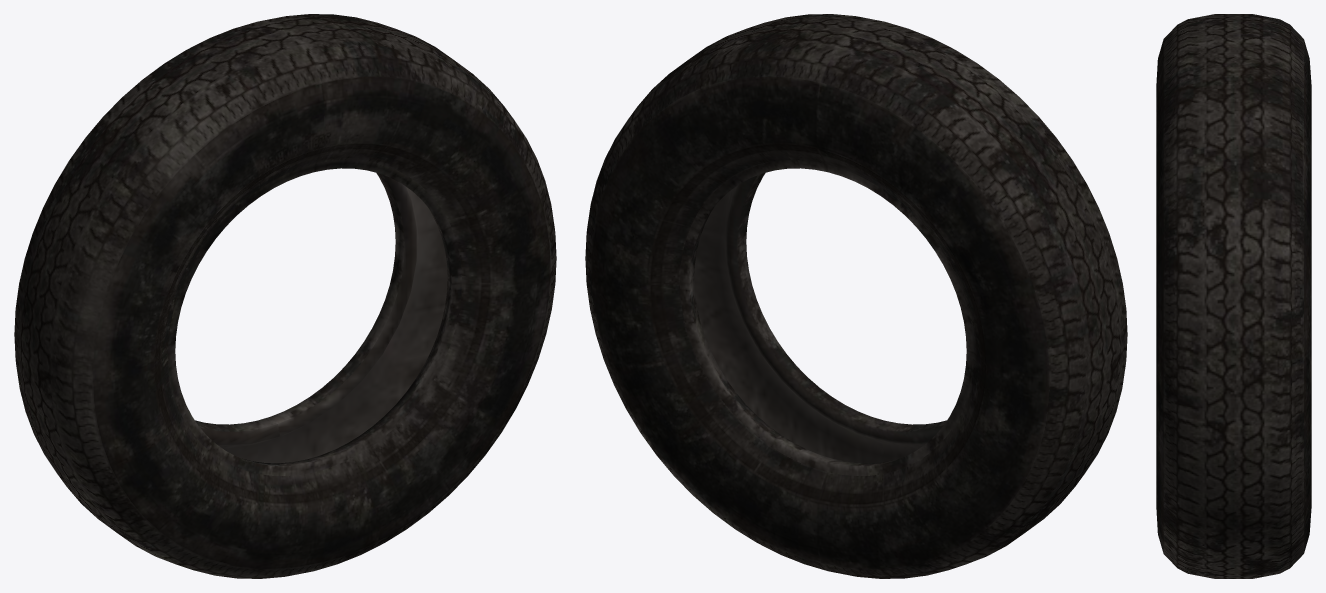
The model's file is old_tyre.gltf.
3 views of the same model, side by side, from view 1: azimuth 30°, elevation 25°; view 2: azimuth 150°, elevation 25°; view 3: azimuth 270°, elevation 25° (orthographic). The views are drawn at different scales.
Visible parts, largest first — view 1: old_tyre; view 2: old_tyre; view 3: old_tyre.
Part boxes in pixels (x1,y1,x2,y2): old_tyre: (14, 14, 556, 578); old_tyre: (585, 14, 1127, 578); old_tyre: (1156, 14, 1311, 578).
Bounding box in the file's own units: 0.6 × 0.6 × 0.165.
Materials: 1 (1 with a texture image).
